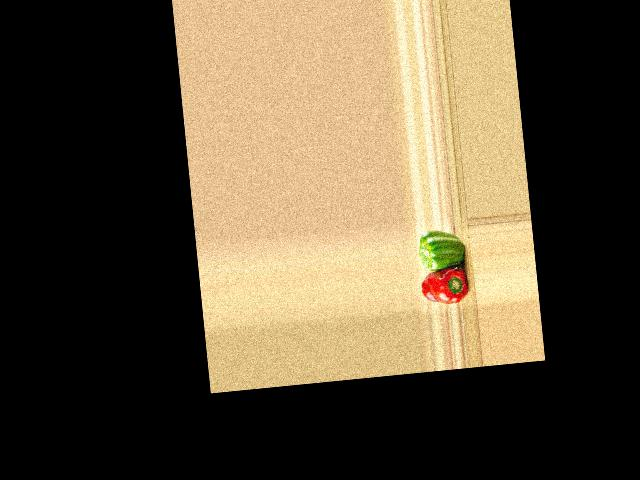bell_pepper: (419, 265, 469, 307)
